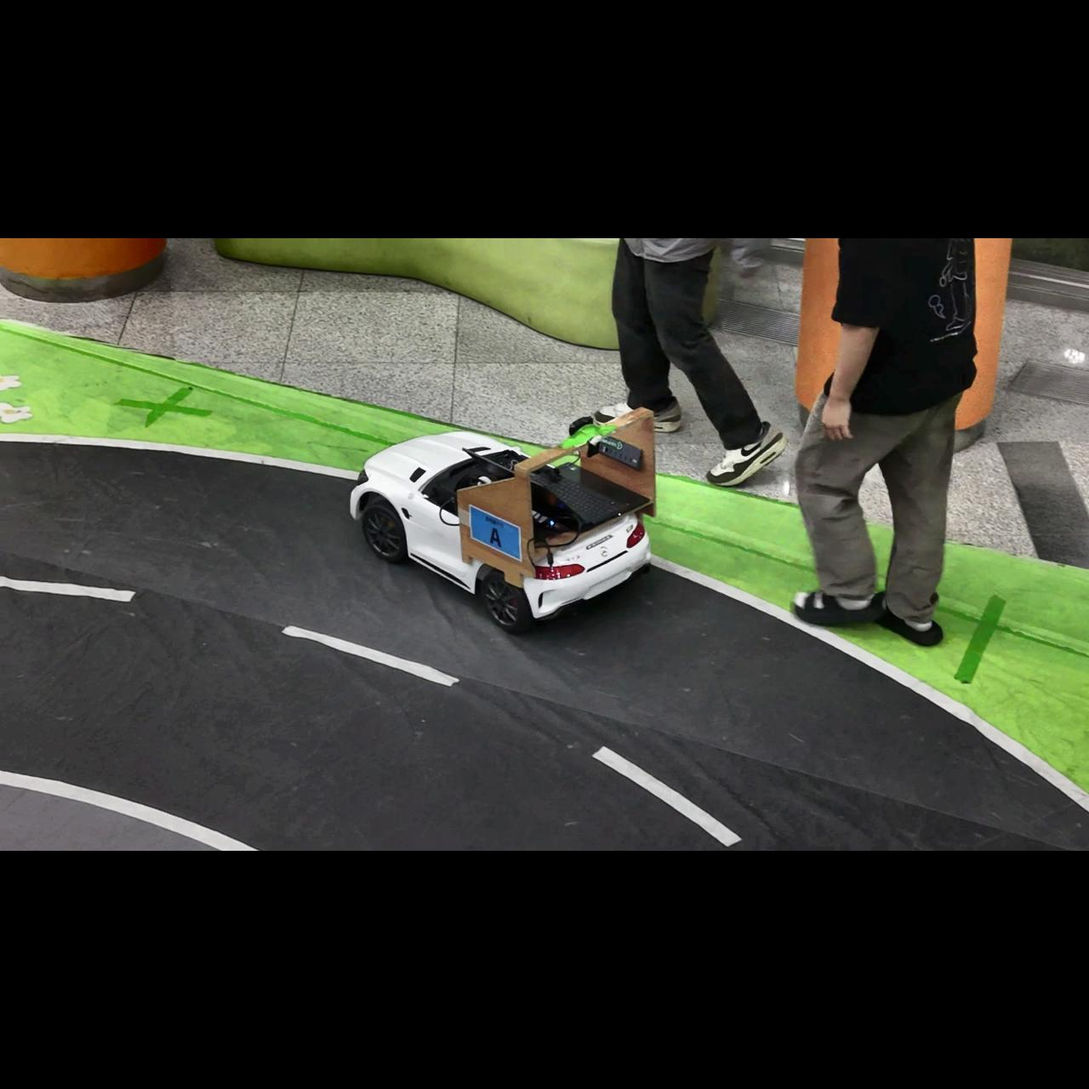broken_line: (591, 746, 743, 848), (281, 625, 460, 687), (0, 575, 136, 602)
